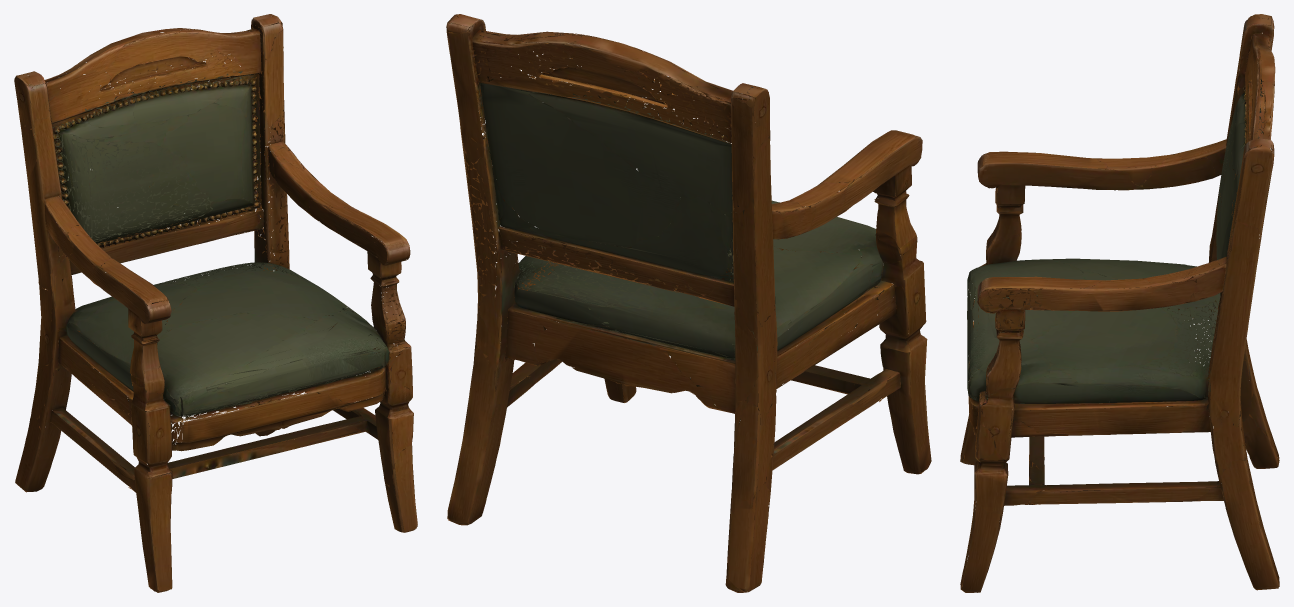
The model's file is armchair-01-game.glb.
The picture shows the model from 3 angles, left to right: view 1: azimuth 30°, elevation 25°; view 2: azimuth 150°, elevation 25°; view 3: azimuth 270°, elevation 25°; orthographic projection. The views are drawn at different scales.
Visible parts, largest first — view 1: Armchair_Game; view 2: Armchair_Game; view 3: Armchair_Game.
Part boxes in pixels (left/top/right/bottom): Armchair_Game: left=14, top=14, right=417, bottom=592; Armchair_Game: left=446, top=14, right=931, bottom=592; Armchair_Game: left=960, top=14, right=1279, bottom=592.
Bounding box in the file's own units: 0.593 × 0.905 × 0.5717.
1 material, 1 textured.
